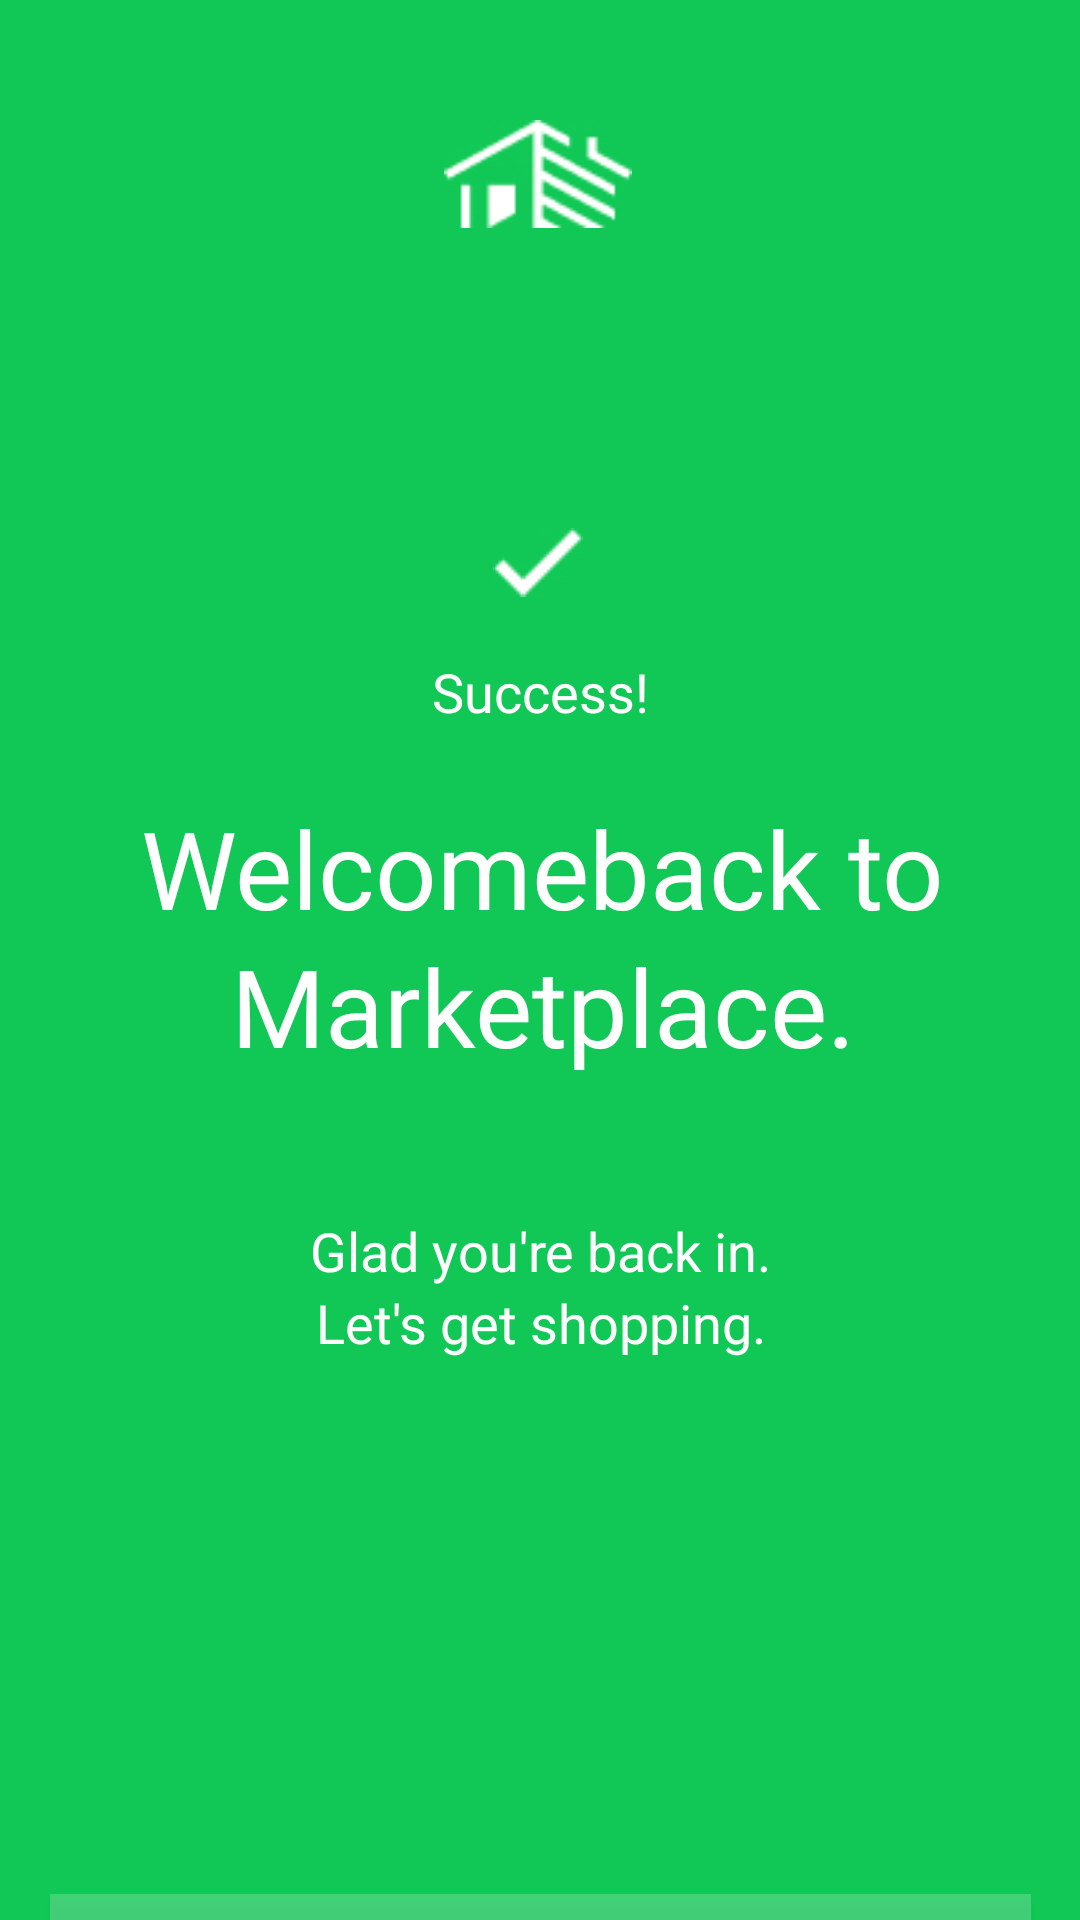

Icon click points for this 1080×1920 phone screenshot, format (x=x, y=y):
tick: (x=538, y=562)
